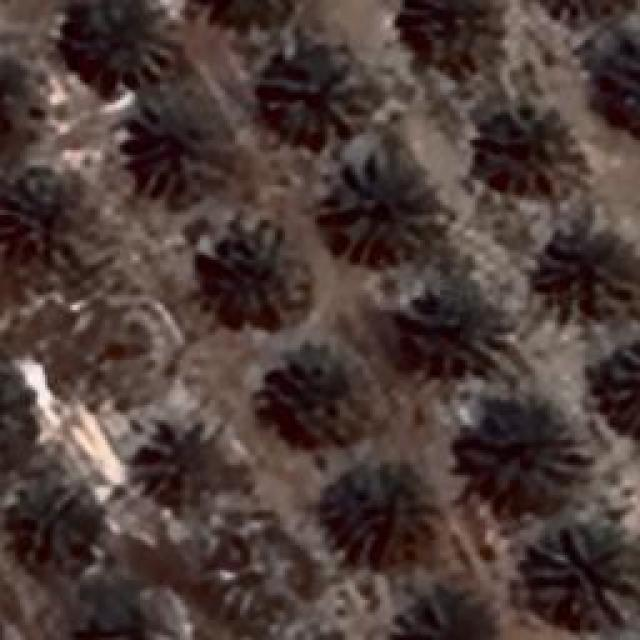PalmTree: (45, 51, 119, 614), (454, 398, 574, 524), (328, 152, 448, 262), (524, 522, 638, 628), (325, 450, 440, 548), (474, 100, 588, 195), (128, 85, 222, 200), (210, 217, 310, 325), (262, 48, 376, 142), (255, 341, 355, 441), (388, 286, 500, 372), (0, 478, 98, 574), (404, 0, 508, 90), (61, 2, 169, 86), (535, 228, 630, 322), (142, 422, 232, 506), (395, 592, 500, 640), (590, 25, 640, 125), (0, 55, 39, 161), (0, 361, 34, 464), (604, 340, 638, 428), (191, 0, 298, 24), (0, 362, 21, 464), (527, 0, 635, 19), (527, 0, 631, 11)
